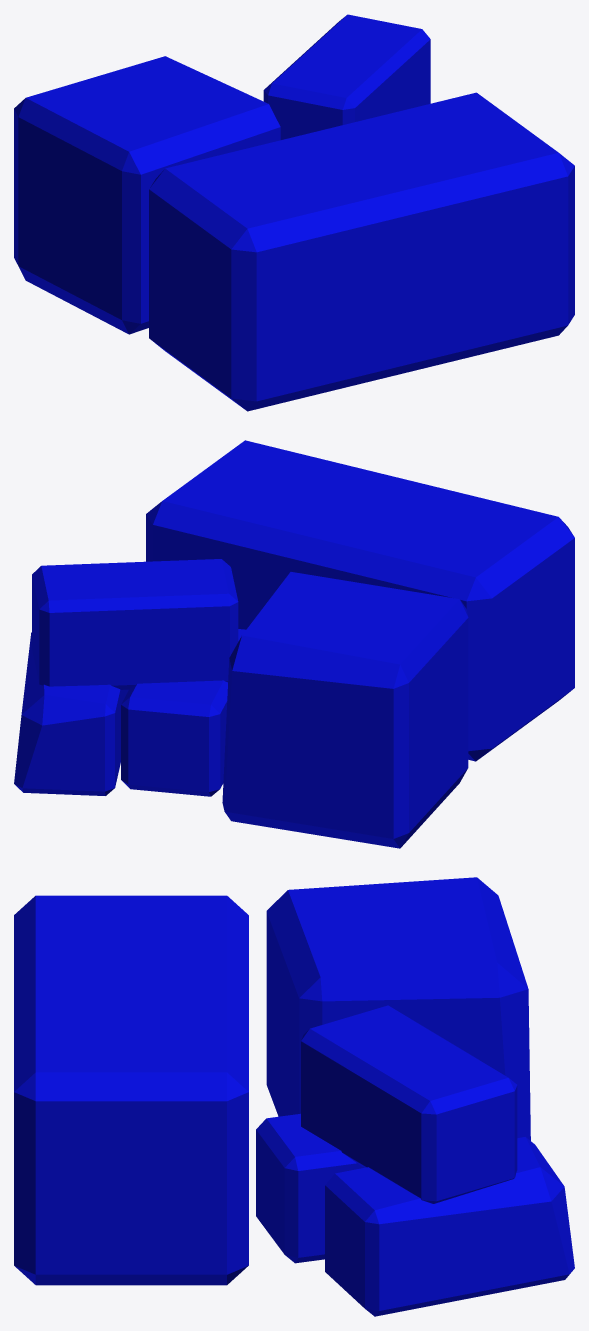
The model's file is SM_Mixed_QuarryStones.fbx.
3 views of the same model, one above another, from view 1: azimuth 30°, elevation 25°; view 2: azimuth 150°, elevation 25°; view 3: azimuth 270°, elevation 25° (orthographic). The views are drawn at different scales.
Parts seen in each view (by area): view 1: SM_Mixed_QuarryStones; view 2: SM_Mixed_QuarryStones; view 3: SM_Mixed_QuarryStones.
Boxes of the visible parts, box(x1,y1,x2,y2) form: SM_Mixed_QuarryStones: box(14, 14, 574, 411); SM_Mixed_QuarryStones: box(14, 440, 574, 848); SM_Mixed_QuarryStones: box(14, 877, 574, 1316).
Bounding box in the file's own units: 165 × 69.04 × 165.
